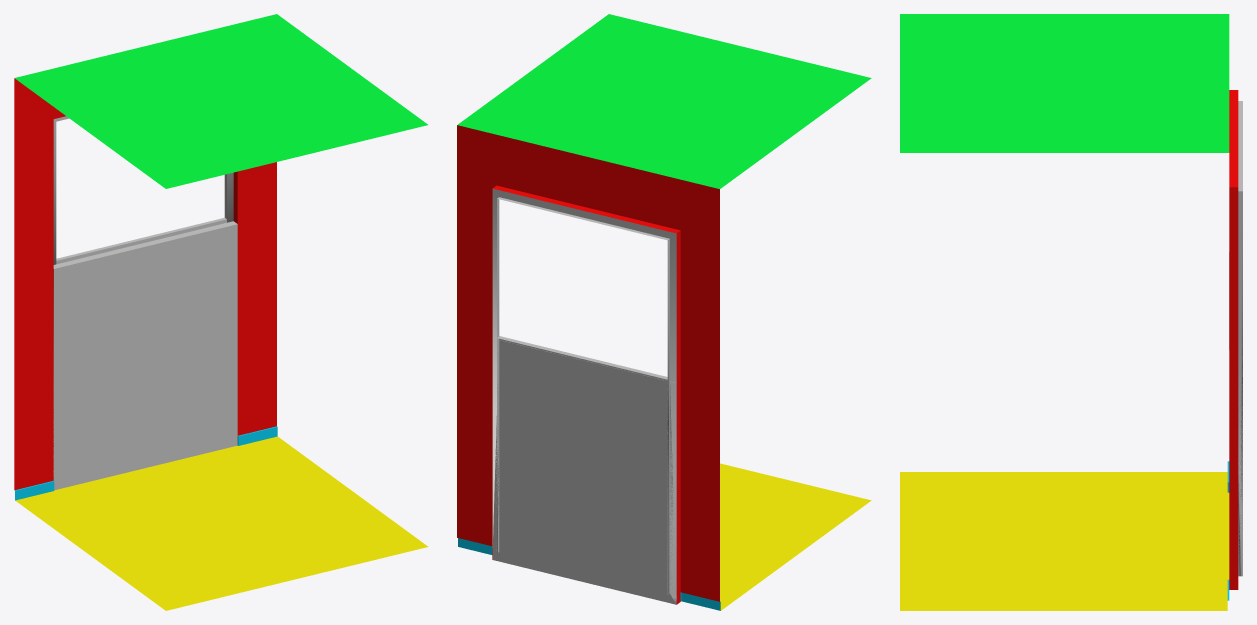
The picture shows the model from 3 angles, left to right: view 1: azimuth 30°, elevation 25°; view 2: azimuth 150°, elevation 25°; view 3: azimuth 270°, elevation 25°; orthographic projection. The views are drawn at different scales.
Parts seen in each view (by area): view 1: SM_Window_C; view 2: SM_Window_C; view 3: SM_Window_C.
Part boxes in pixels (x1=…): SM_Window_C: x1=14, y1=14, x2=428, y2=610; SM_Window_C: x1=457, y1=14, x2=871, y2=610; SM_Window_C: x1=900, y1=14, x2=1242, y2=610.
Size of the model in its own units: 200 by 307 by 208.
